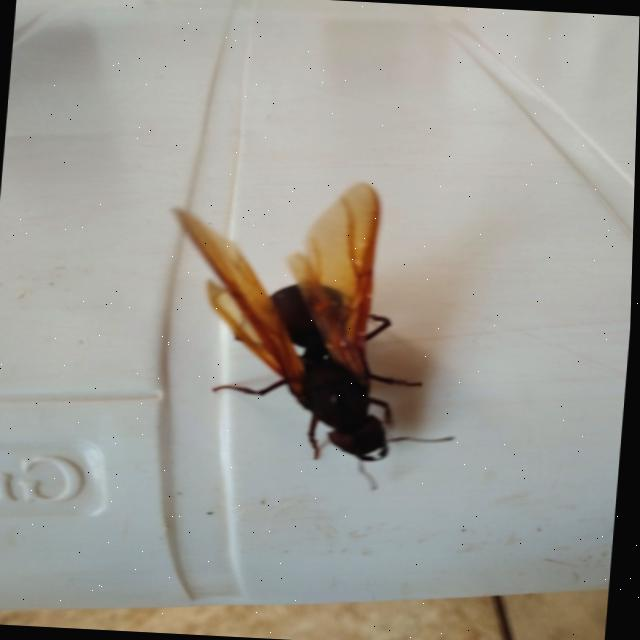Alive-Female-Alate: (150, 172, 477, 496)
